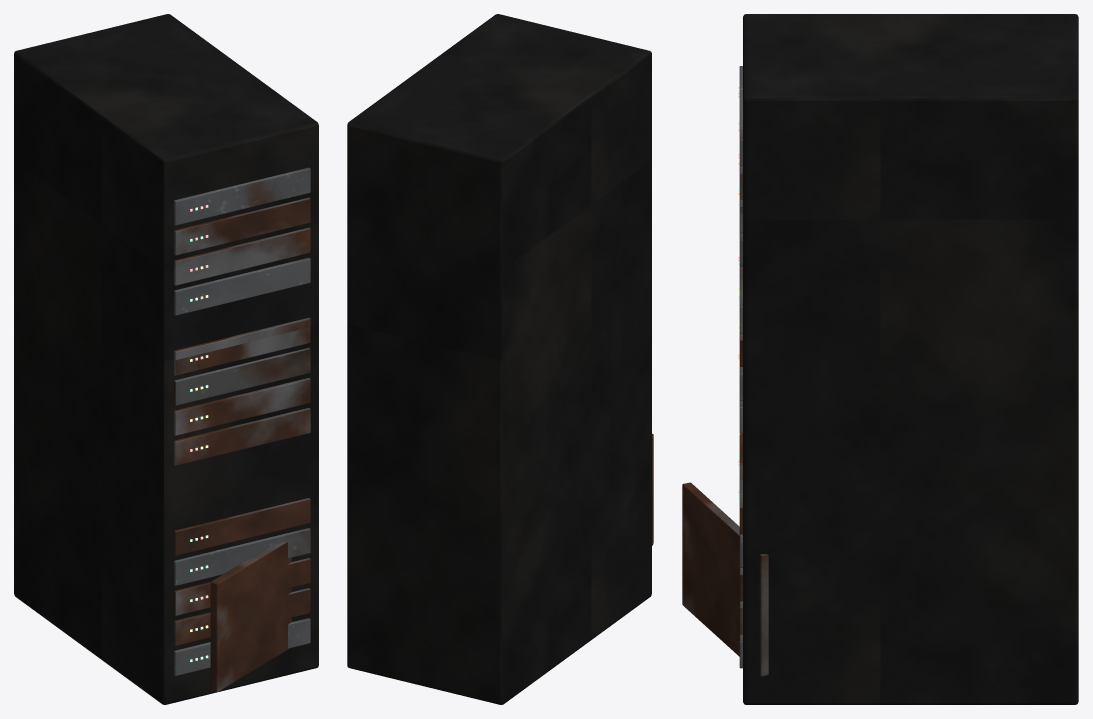
File: Y06_server_rack_v2.glb
The picture shows the model from 3 angles, left to right: view 1: azimuth 30°, elevation 25°; view 2: azimuth 150°, elevation 25°; view 3: azimuth 270°, elevation 25°; orthographic projection. The views are drawn at different scales.
Visible parts, largest first — view 1: Y06_server_rack_v2; view 2: Y06_server_rack_v2; view 3: Y06_server_rack_v2.
Boxes of the visible parts, x1,y1,x2,y2 form: Y06_server_rack_v2: (14,14,318,704); Y06_server_rack_v2: (347,14,653,704); Y06_server_rack_v2: (682,14,1078,704).
Bounding box in the file's own units: 0.6085 × 2 × 1.18.
6 materials, 6 textured.
